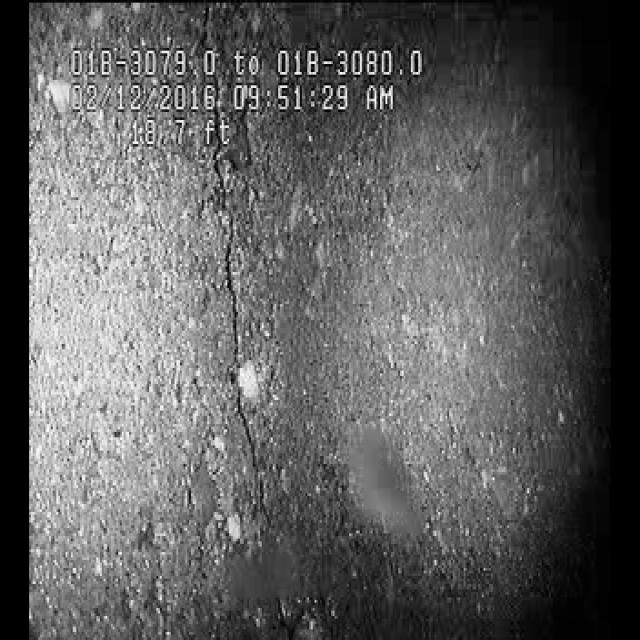Crack: (192, 162, 268, 533)
